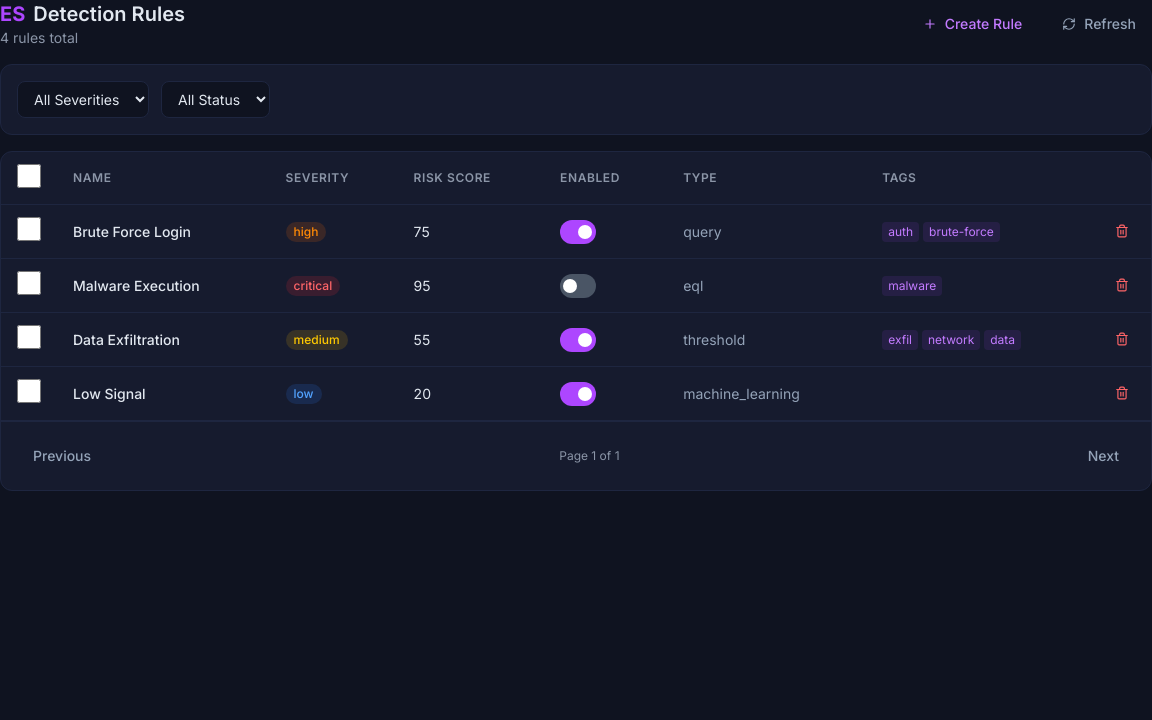
Test: EsRulesView › opens create dialog on Create Rule button click
This screenshot has width=1152, height=720.
Click the button "Create Rule" at (972, 24), box [907,6,1038,42]
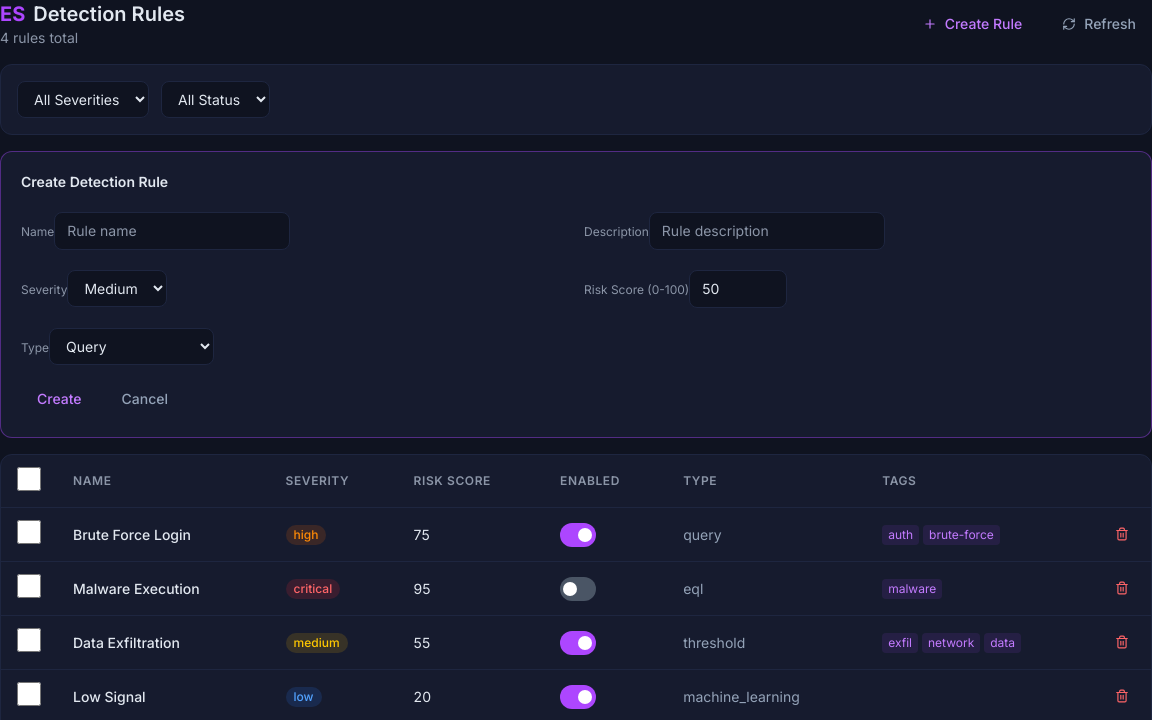
Expected: the text "Create Detection Rule" is shown, [21,173,168,190]
